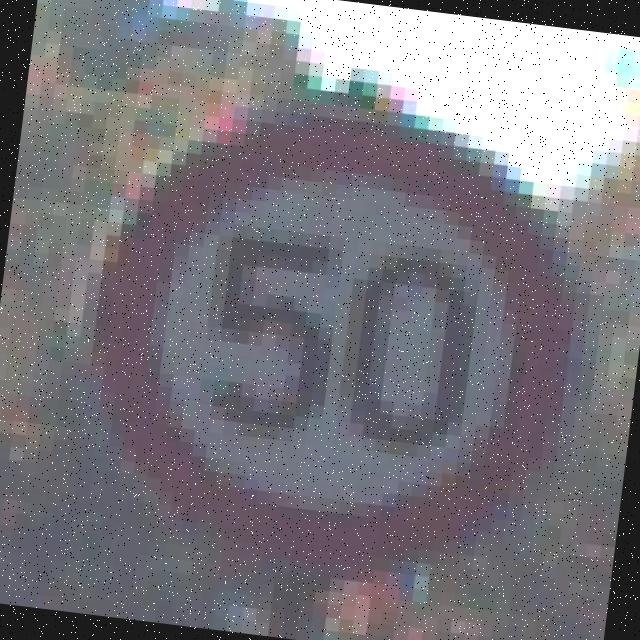Ograniczenie predkosci do 50: (73, 86, 594, 594)
